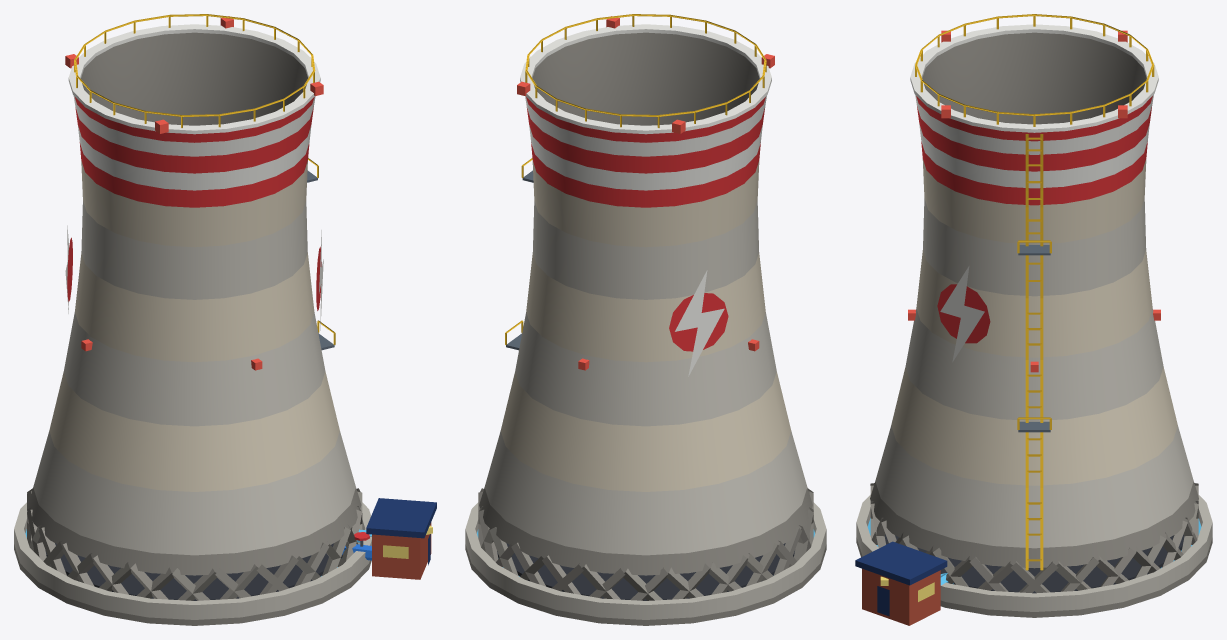
The model's file is cooling_tower.glb.
The picture shows the model from 3 angles, left to right: view 1: azimuth 30°, elevation 25°; view 2: azimuth 150°, elevation 25°; view 3: azimuth 270°, elevation 25°; orthographic projection.
Parts seen in each view (by area): view 1: Body; view 2: Body; view 3: Body.
Boxes of the visible parts, left/top/right/bottom form: Body: left=14, top=14, right=436, bottom=625; Body: left=465, top=14, right=826, bottom=625; Body: left=855, top=14, right=1212, bottom=625.
Bounding box in the file's own units: 2.36 × 3.26 × 2.21.
